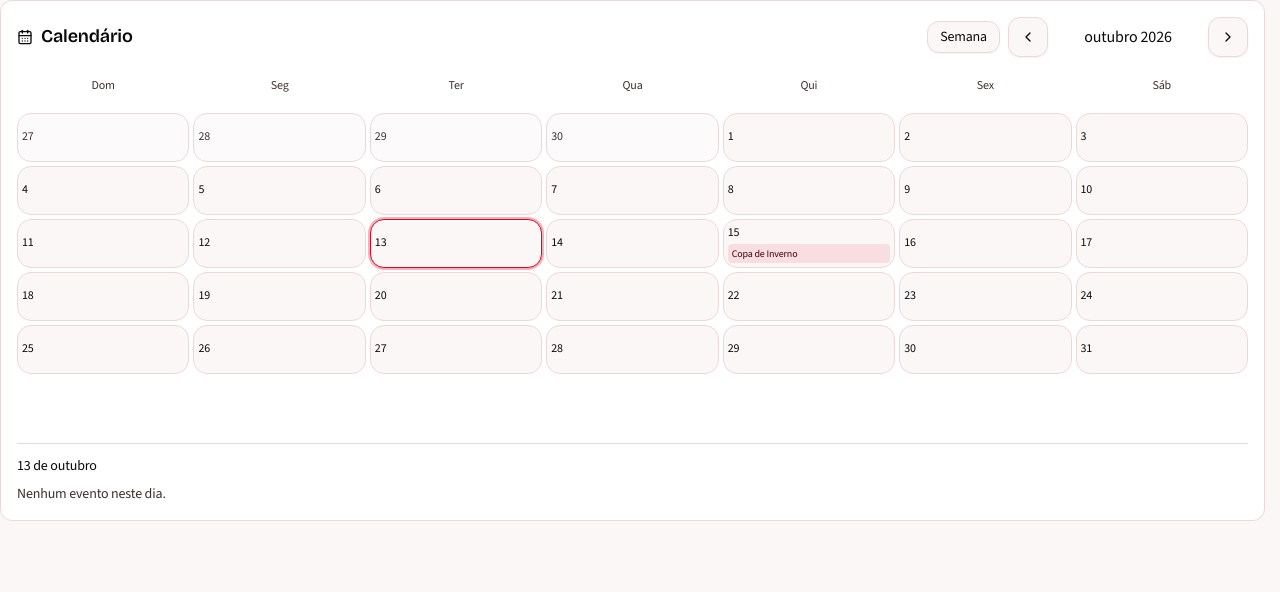
EventCalendar › loads events and exposes day selection with an accessible name
The width and height of the screenshot is (1280, 592).
Expected: the text "Copa de Inverno" is shown, [728,244,890,263]
Click the button "15 Copa de Inverno": (809, 244) [723,219,895,268]
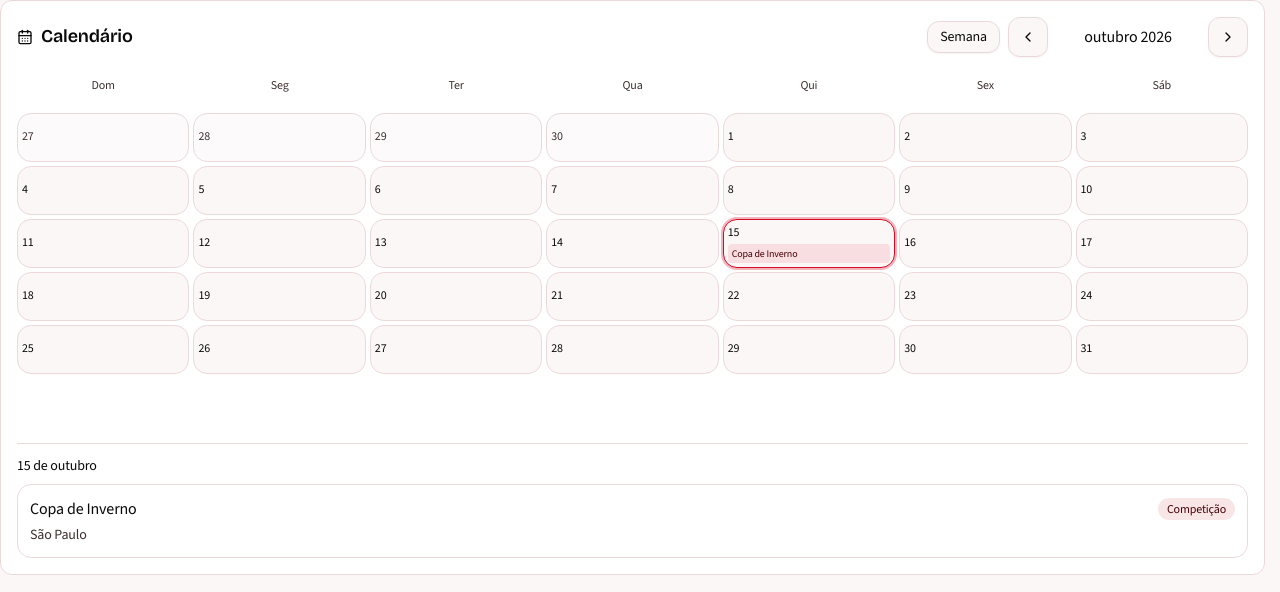
Result: the link "Copa de Inverno Competição São Paulo" is shown at [17,484,1248,558]
